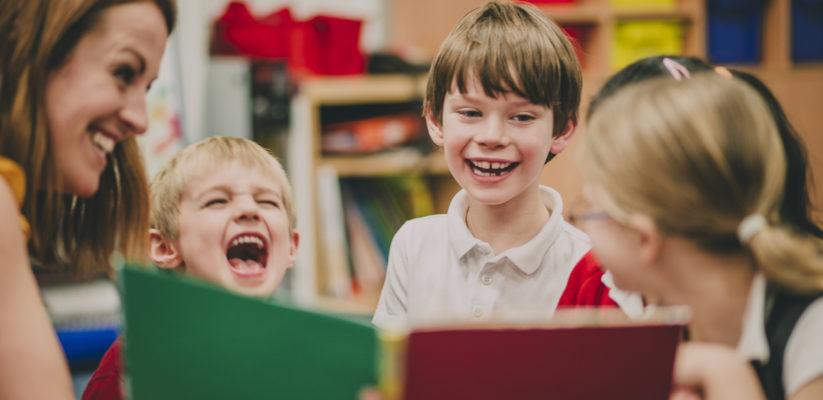person: (580, 82, 785, 392), (401, 3, 579, 286)
